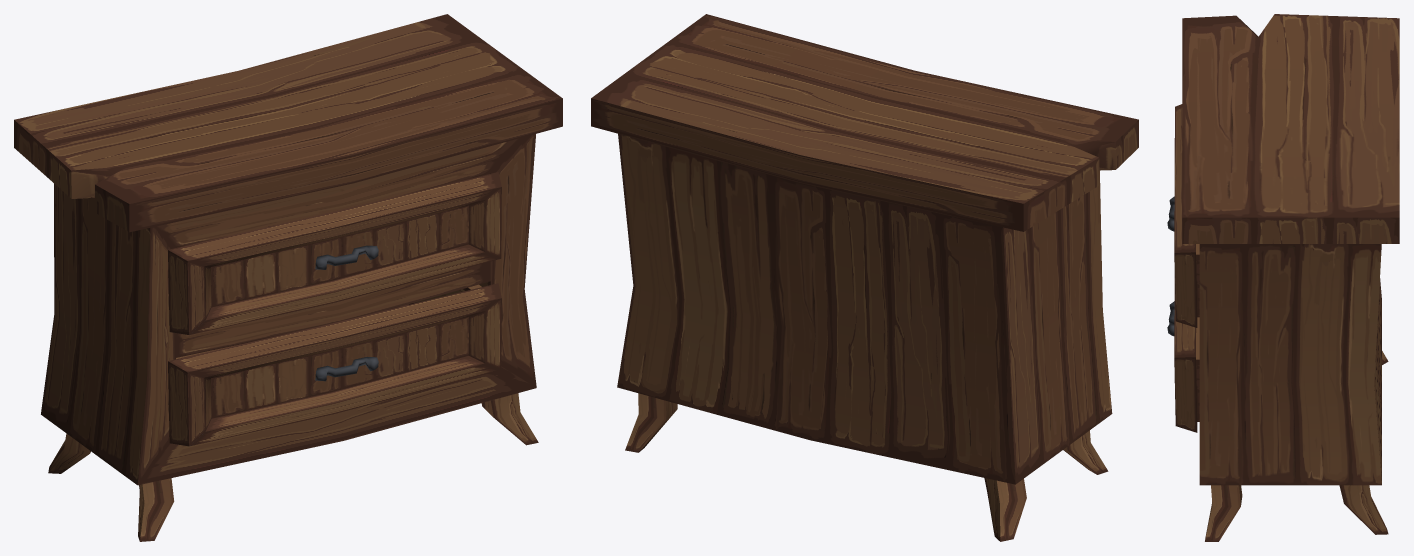
Rendered from SM_PROP_dresser_interior_04.fbx.
3 renders of one model, left to right at view 1: azimuth 30°, elevation 25°; view 2: azimuth 150°, elevation 25°; view 3: azimuth 270°, elevation 25°, orthographic. The views are drawn at different scales.
Visible parts, largest first — view 1: SM_PROP_dresser_interior_04, SM_PROP_dresser_drawer_02_interior_04, SM_PROP_dresser_drawer_01_interior_04; view 2: SM_PROP_dresser_interior_04; view 3: SM_PROP_dresser_interior_04, SM_PROP_dresser_drawer_01_interior_04, SM_PROP_dresser_drawer_02_interior_04.
Boxes of the visible parts, x1,y1,x2,y2 form: SM_PROP_dresser_interior_04: [14, 14, 562, 541]; SM_PROP_dresser_drawer_02_interior_04: [168, 283, 501, 446]; SM_PROP_dresser_drawer_01_interior_04: [168, 172, 501, 334]; SM_PROP_dresser_interior_04: [591, 14, 1138, 541]; SM_PROP_dresser_interior_04: [1182, 14, 1399, 541]; SM_PROP_dresser_drawer_01_interior_04: [1167, 104, 1199, 327]; SM_PROP_dresser_drawer_02_interior_04: [1167, 278, 1199, 432].
Bounding box in the file's own units: 171 × 130 × 82.61.
